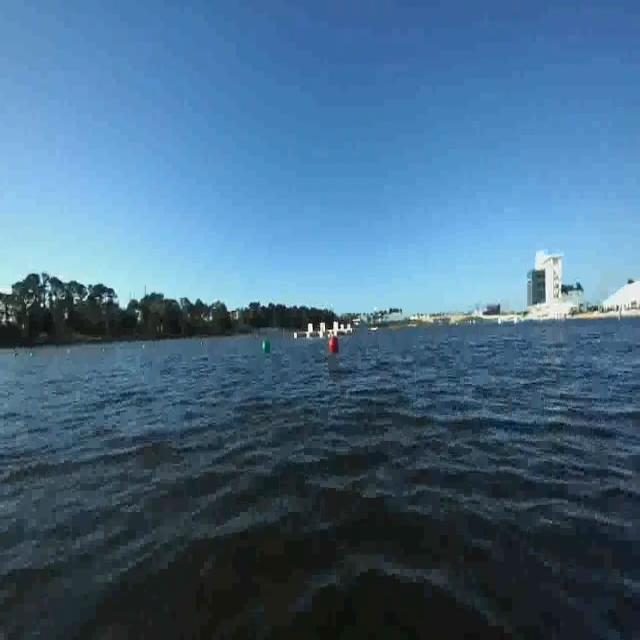green-buoy: (264, 341, 272, 353)
red-buoy: (328, 338, 338, 354)
